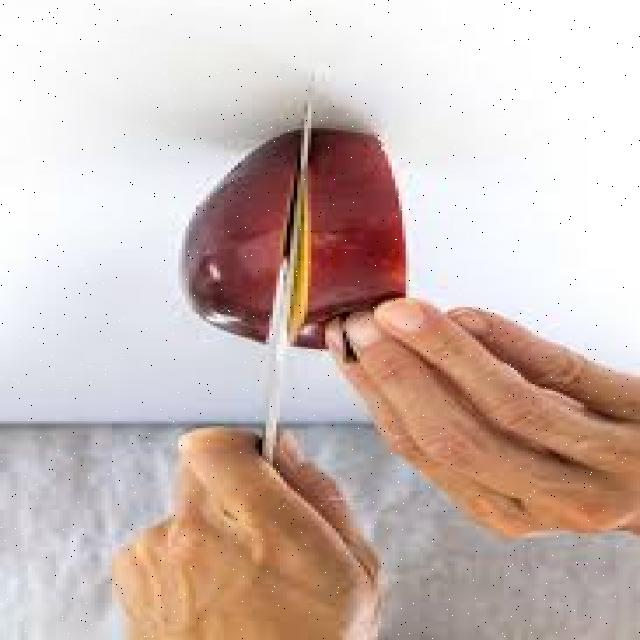Apple: (180, 117, 404, 350)
